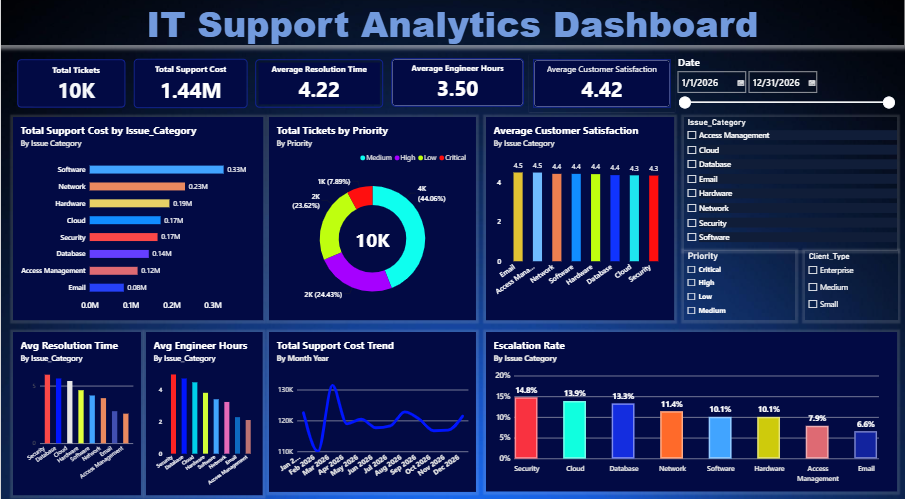

The page's visual inventory and layout, read from the dashboard file:
{"tool":"powerbi","page":{"name":"Page 1","canvas":[1920,1080],"ordinal":0},"visuals":[{"type":"cardVisual","fields":{"Data":["Support_Data.Total Tickets"]},"box":[25,123.3,248.3,121.7],"z":0},{"type":"cardVisual","fields":{"Data":["Support_Data.Total Support Cost"]},"box":[273.3,123.3,258.3,121.7],"z":1000},{"type":"cardVisual","fields":{"Data":["Support_Data.Average Resolution Time"]},"box":[531.7,123.3,290,121.7],"z":2000},{"type":"cardVisual","fields":{"Data":["Support_Data.Average Engineer Hours"]},"box":[821.7,121.7,300,121.7],"z":3000},{"type":"cardVisual","fields":{"Data":["Support_Data.Average Customer Satisfaction"]},"box":[1121.7,123.3,310,121.7],"z":4000},{"type":"donutChart","fields":{"Category":["Support_Data.Priority"],"Y":["Support_Data.Total Tickets"]},"box":[570,255,440,431.7],"z":5000},{"type":"clusteredBarChart","fields":{"Category":["Support_Data.Issue_Category"],"Y":["Support_Data.Total Support Cost"]},"box":[25,255,531.7,431.7],"z":6000},{"type":"lineChart","title":"Total Support Cost Trend","fields":{"Category":["Date_Table.Month Year"],"Y":["Support_Data.Total Support Cost"]},"box":[570,711.7,440,340],"z":7000},{"type":"clusteredColumnChart","title":"Avg Resolution Time","fields":{"Category":["Support_Data.Issue_Category"],"Y":["Support_Data.Average Resolution Time"]},"box":[25,711.7,271.7,346.7],"z":8000},{"type":"clusteredColumnChart","title":"Avg Engineer Hours","fields":{"Category":["Support_Data.Issue_Category"],"Y":["Support_Data.Average Engineer Hours"]},"box":[308.3,711.7,248.3,346.7],"z":9000},{"type":"clusteredColumnChart","title":"Average Customer Satisfaction","fields":{"Category":["Support_Data.Issue_Category"],"Y":["Support_Data.Average Customer Satisfaction"]},"box":[1031.7,255,400,431.7],"z":10000},{"type":"clusteredColumnChart","title":"Escalation Rate ","fields":{"Category":["Support_Data.Issue_Category"],"Y":["Support_Data.Escalation Rate"]},"box":[1031.6,712.2,873.6,339],"z":11000},{"type":"slicer","fields":{"Values":["Support_Data.Client_Type"]},"box":[1708.3,540,196.7,146.7],"z":12000},{"type":"slicer","fields":{"Values":["Support_Data.Priority"]},"box":[1451.7,540,236.7,146.7],"z":13000},{"type":"slicer","fields":{"Values":["Support_Data.Issue_Category"]},"box":[1451.7,255,453.3,283.3],"z":14000},{"type":"slicer","fields":{"Values":["Date_Table.Date"]},"box":[1431.7,123.3,473.3,156.7],"z":15000},{"type":"textbox","title":"IT Support Analytics Dashboard","box":[0,0,1920,101.7],"z":16000}]}

Visuals, with their boxes in screenshot pixels (x1, y1, x2, y2), scaled from the page's 1920x1080 canvas onto the 905x499 screenshot:
cardVisual - Support_Data.Total Tickets: <box>12,57,129,113</box>
cardVisual - Support_Data.Total Support Cost: <box>129,57,251,113</box>
cardVisual - Support_Data.Average Resolution Time: <box>251,57,387,113</box>
cardVisual - Support_Data.Average Engineer Hours: <box>387,56,529,112</box>
cardVisual - Support_Data.Average Customer Satisfaction: <box>529,57,675,113</box>
donutChart - Support_Data.Priority x Support_Data.Total Tickets: <box>269,118,476,317</box>
clusteredBarChart - Support_Data.Issue_Category x Support_Data.Total Support Cost: <box>12,118,262,317</box>
"Total Support Cost Trend" lineChart: <box>269,329,476,486</box>
"Avg Resolution Time" clusteredColumnChart: <box>12,329,140,489</box>
"Avg Engineer Hours" clusteredColumnChart: <box>145,329,262,489</box>
"Average Customer Satisfaction" clusteredColumnChart: <box>486,118,675,317</box>
"Escalation Rate " clusteredColumnChart: <box>486,329,898,486</box>
slicer - Support_Data.Client_Type: <box>805,250,898,317</box>
slicer - Support_Data.Priority: <box>684,250,796,317</box>
slicer - Support_Data.Issue_Category: <box>684,118,898,249</box>
slicer - Date_Table.Date: <box>675,57,898,129</box>
"IT Support Analytics Dashboard" textbox: <box>0,0,904,47</box>
